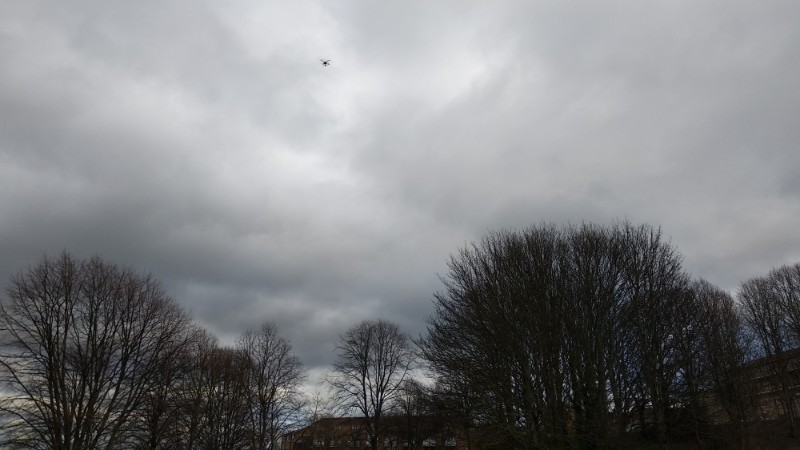drone: (320, 58, 331, 67)
